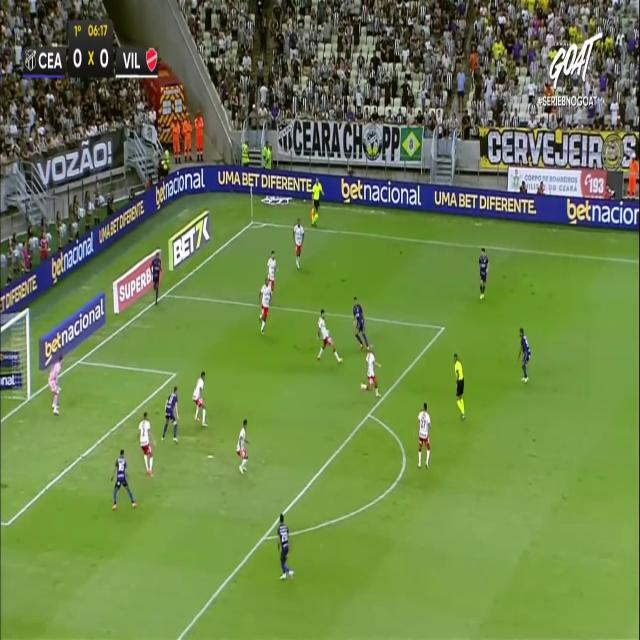goalkeeper: (47, 353, 63, 414)
player: (110, 448, 136, 509), (316, 309, 343, 364), (276, 512, 294, 580), (360, 343, 381, 397), (161, 384, 179, 443), (137, 411, 153, 477), (352, 295, 370, 349), (417, 401, 431, 468), (192, 370, 208, 426), (235, 418, 249, 473), (517, 327, 531, 382), (259, 278, 272, 334), (150, 250, 162, 304), (292, 217, 304, 268), (266, 250, 278, 301), (478, 247, 488, 299)
referee: (453, 352, 465, 420), (311, 179, 324, 226)
